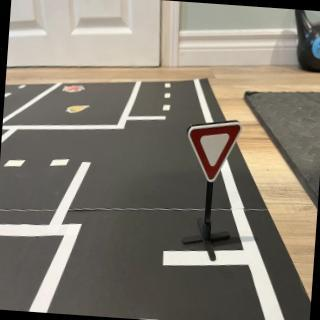sign_yield: (185, 118, 243, 185)
